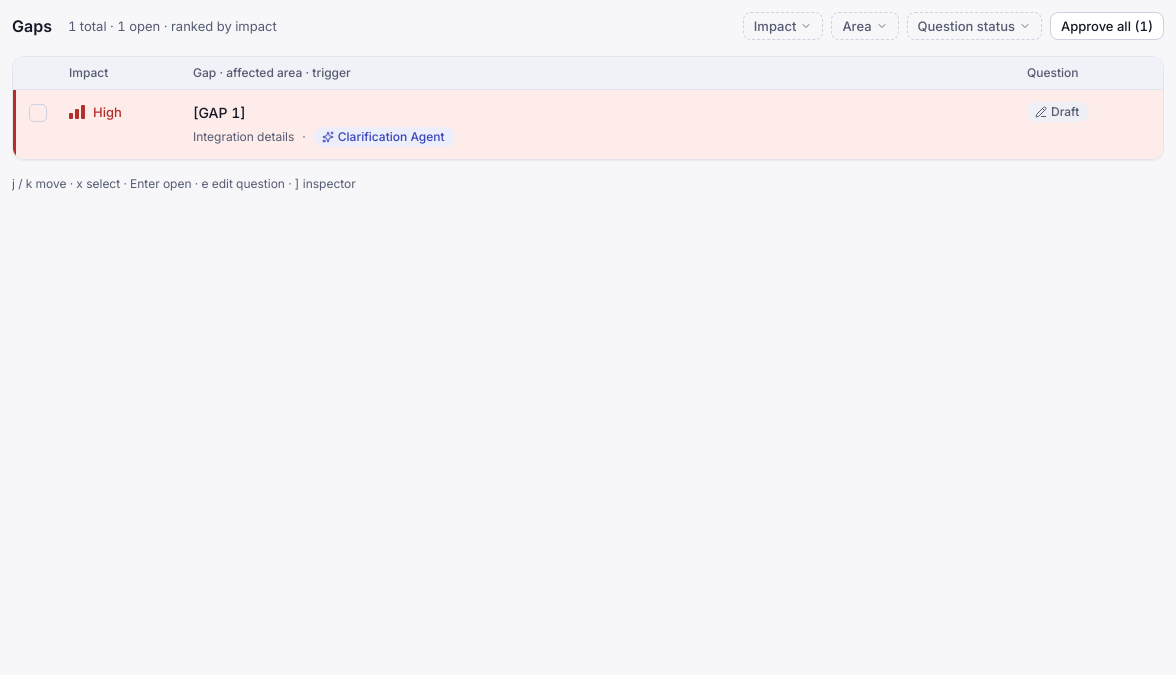
Test case: editing questions › a 412 says who changed it, keeps the text, and Reload re-reads the Gaps
Click the button "[GAP 1]": [219, 112] box [193, 102, 246, 123]
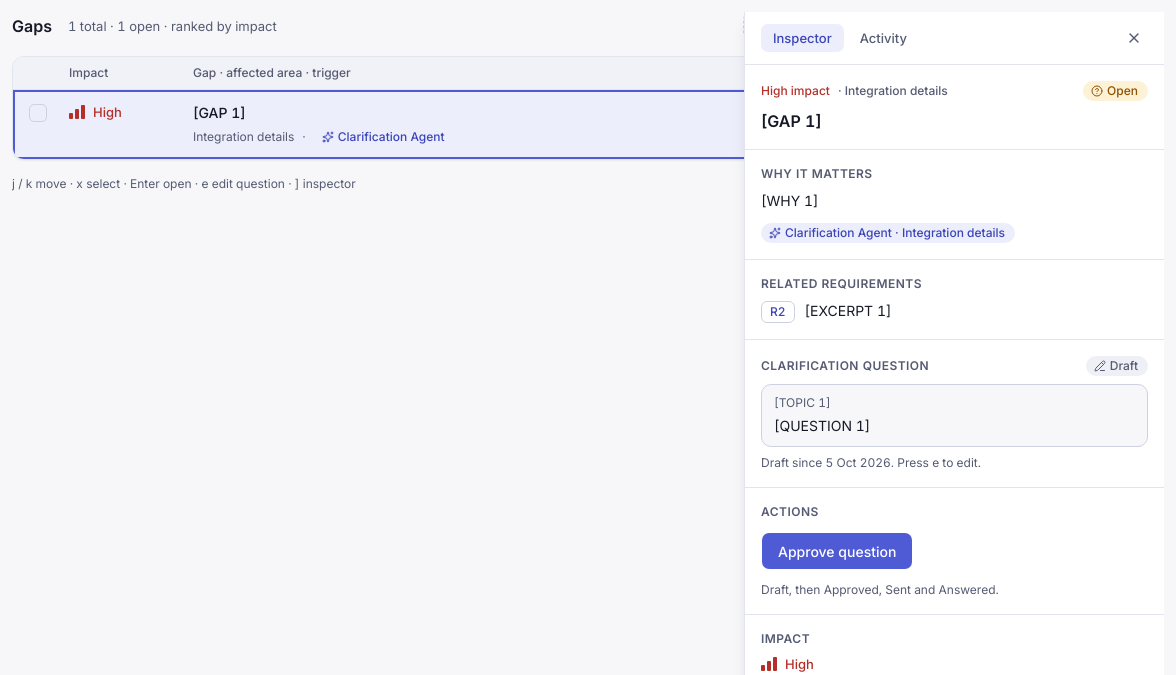
Click the button named "Edit question": [954, 426] box [774, 415, 1135, 436]
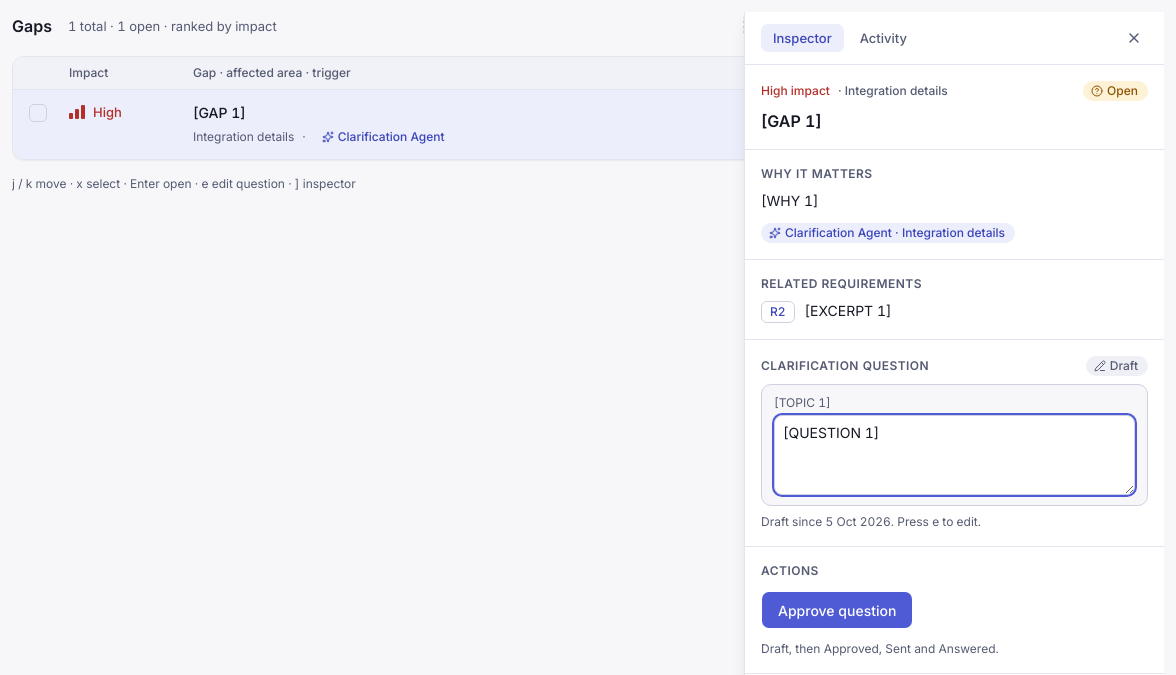
Replace the text in the text box named "Question" with "[ [MY TEXT]": [954, 455] box [774, 415, 1135, 495]
Then press Enter
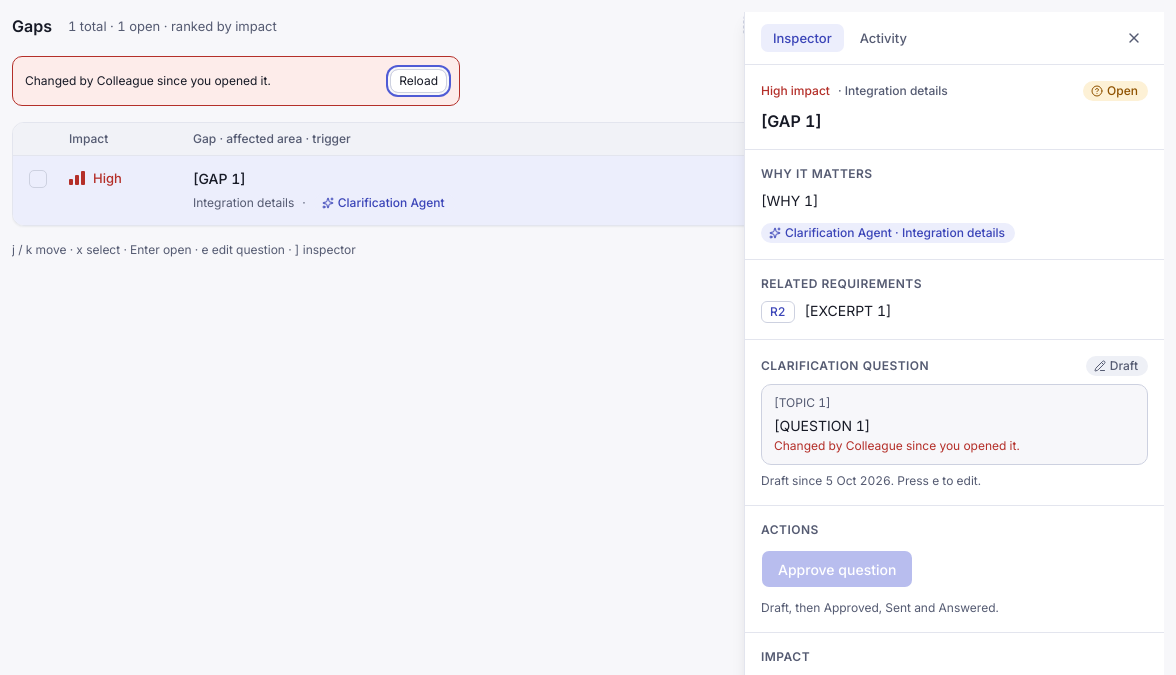
Check: the message shows "Changed by Colleague", box [25, 73, 271, 88]
Check: the text "[QUESTION 1]" is shown, box [774, 417, 870, 434]
Click the button "Reload": [419, 81] box [390, 69, 447, 93]
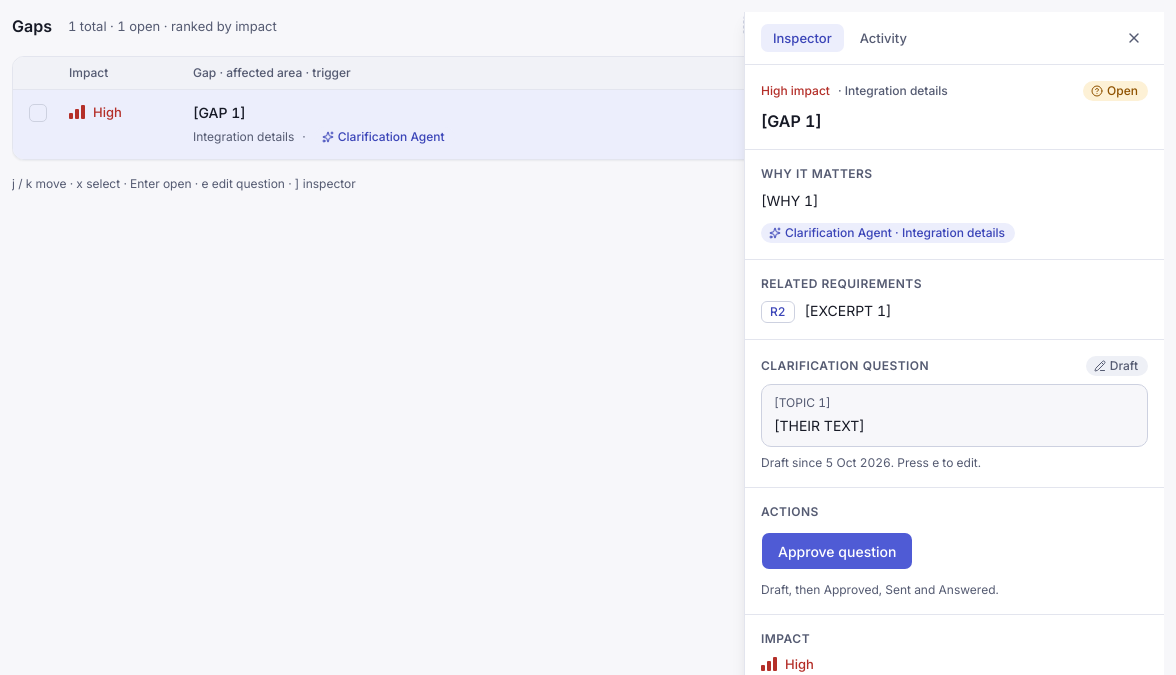
Check: the text "[THEIR TEXT]" is shown, box [774, 417, 865, 434]
Check: the button "Reload" is gone
Click the button named "Edit question": [954, 426] box [774, 415, 1135, 436]
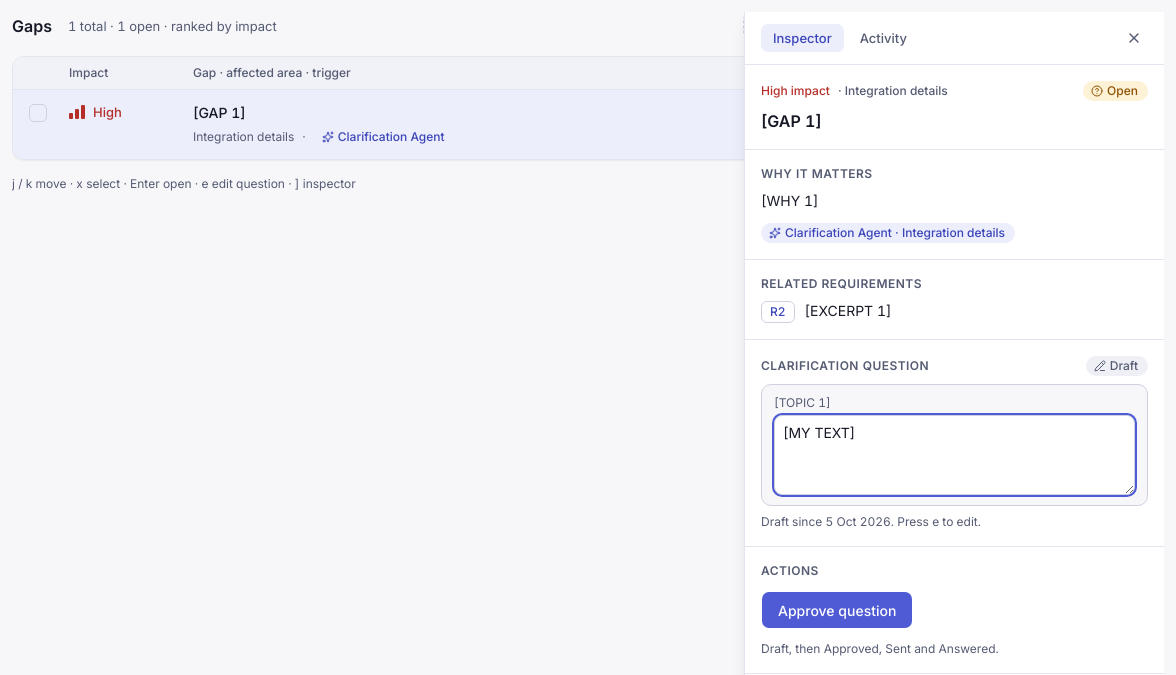
Check: the text box named "Question" holds "[MY TEXT]", box [774, 415, 1135, 495]
